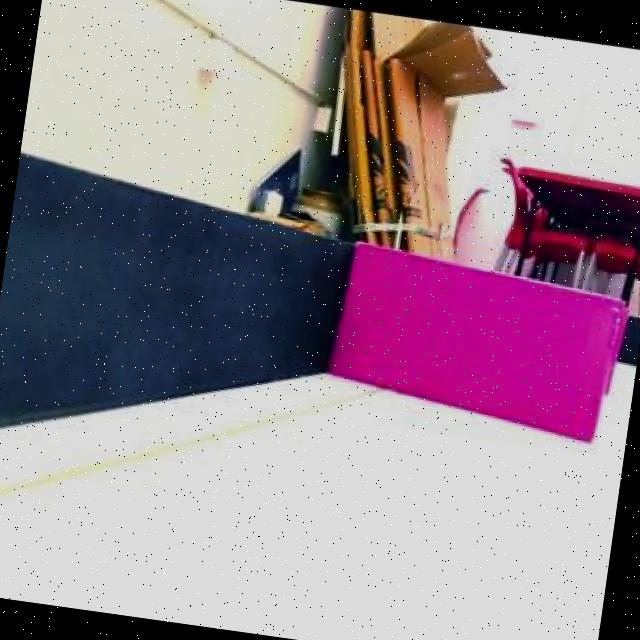xparking: (322, 238, 633, 446)
